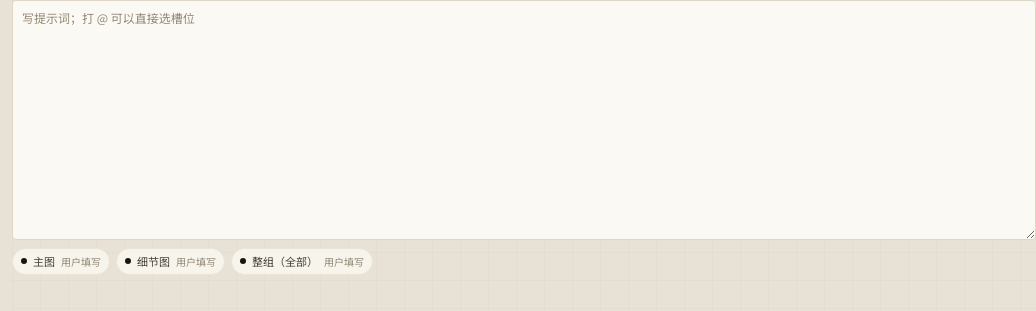
粘贴 › 粘一段合法的槽位引用 → 直接变胶囊
This screenshot has width=1036, height=311.
Click the field at (524, 120), box top-left (12, 0), bottom-right (1035, 240)
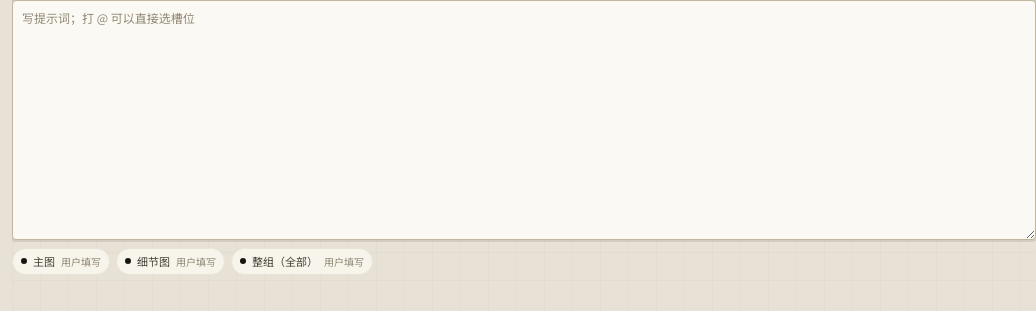
Type keys "先拍 {{slot:image_1}}"
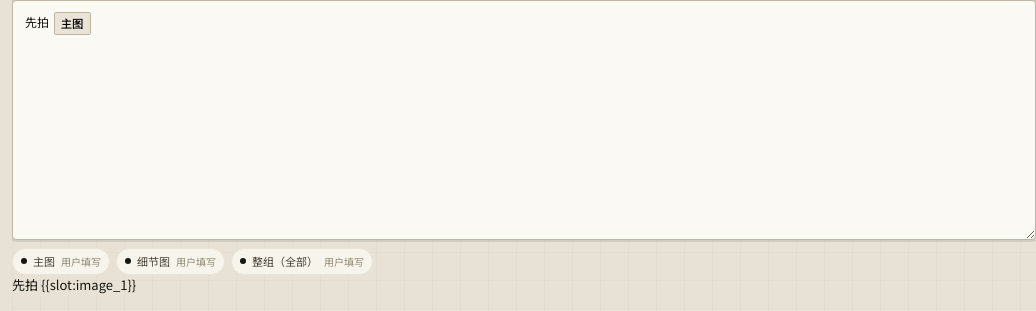
Expected: the field does not show "{{slot:"
Expected: the 1st text "主图" is shown, top-left (54, 12), bottom-right (90, 35)
Expected: the text with test id "value" reads "先拍 {{slot:image_1}}", top-left (12, 274), bottom-right (136, 294)
